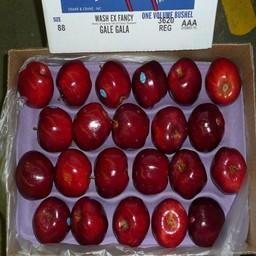apple: (15, 149, 54, 199), (70, 196, 109, 245), (74, 102, 112, 151), (112, 101, 150, 150), (111, 198, 148, 247), (32, 196, 71, 242), (168, 150, 206, 197), (166, 57, 202, 106), (131, 60, 168, 107), (55, 149, 92, 196), (36, 105, 73, 152), (94, 60, 131, 107), (56, 61, 93, 107), (17, 62, 54, 108), (94, 148, 128, 198), (152, 198, 188, 245), (211, 147, 247, 194), (187, 196, 223, 243), (189, 104, 225, 151), (151, 107, 188, 152), (132, 148, 168, 194), (206, 58, 241, 105)
